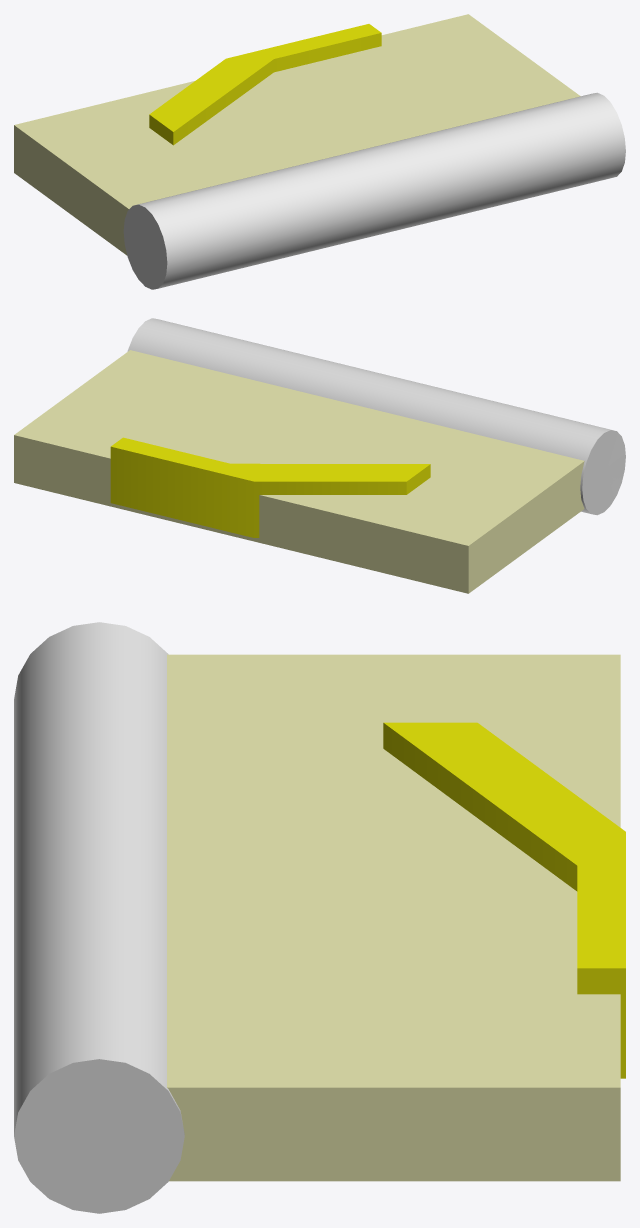
The model's file is Y_Left.fbx.
3 views of the same model, one above another, from view 1: azimuth 30°, elevation 25°; view 2: azimuth 150°, elevation 25°; view 3: azimuth 270°, elevation 25° (orthographic). The views are drawn at different scales.
Visible parts, largest first — view 1: pasted__polySurface16; view 2: pasted__polySurface16; view 3: pasted__polySurface16.
Boxes of the visible parts, box(x1,y1,x2,y2) form: pasted__polySurface16: box(14, 14, 625, 289); pasted__polySurface16: box(14, 318, 625, 593); pasted__polySurface16: box(14, 622, 625, 1213).
Bounding box in the file's own units: 6.05 × 1 × 3.58.
